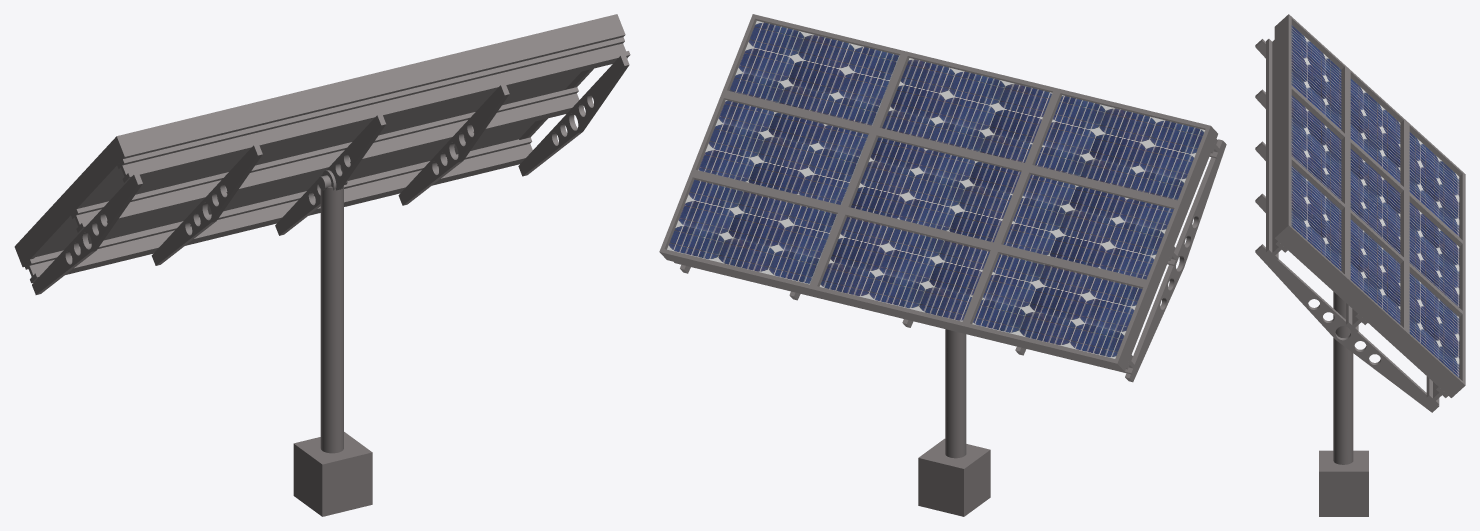
The picture shows the model from 3 angles, left to right: view 1: azimuth 30°, elevation 25°; view 2: azimuth 150°, elevation 25°; view 3: azimuth 270°, elevation 25°; orthographic projection. The views are drawn at different scales.
Parts seen in each view (by area): view 1: solpanel_metal_0, pelare, betong; view 2: solpanel_Material #3_0, solpanel_metal_0, betong, pelare; view 3: solpanel_Material #3_0, solpanel_metal_0, betong, pelare.
Part boxes in pixels (x1=…): solpanel_metal_0: x1=14, y1=14, x2=630, y2=294; pelare: x1=320, y1=186, x2=343, y2=453; betong: x1=293, y1=432, x2=372, y2=516; solpanel_Material #3_0: x1=667, y1=21, x2=1204, y2=358; solpanel_metal_0: x1=659, y1=14, x2=1226, y2=382; betong: x1=918, y1=438, x2=990, y2=516; pelare: x1=945, y1=329, x2=966, y2=458; solpanel_Material #3_0: x1=1291, y1=25, x2=1459, y2=377; solpanel_metal_0: x1=1255, y1=14, x2=1465, y2=412; betong: x1=1319, y1=450, x2=1368, y2=516; pelare: x1=1333, y1=291, x2=1353, y2=464.
Bounding box in the file's own units: 5000 × 4276 × 2102.
3 materials, 1 textured.
